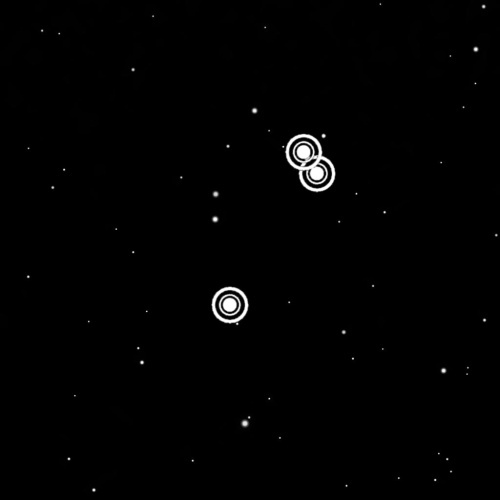canis_minor: (204, 128, 341, 332)
